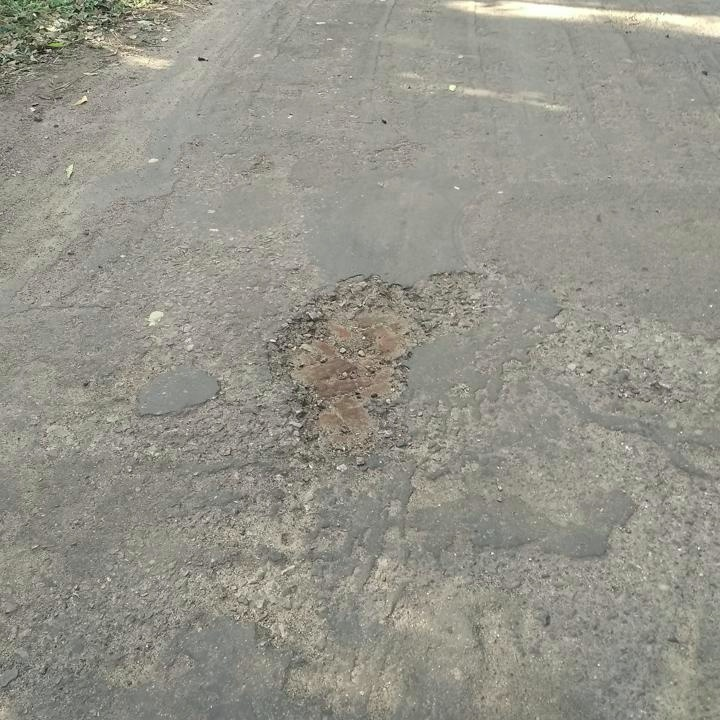pothole: (263, 265, 492, 463)
